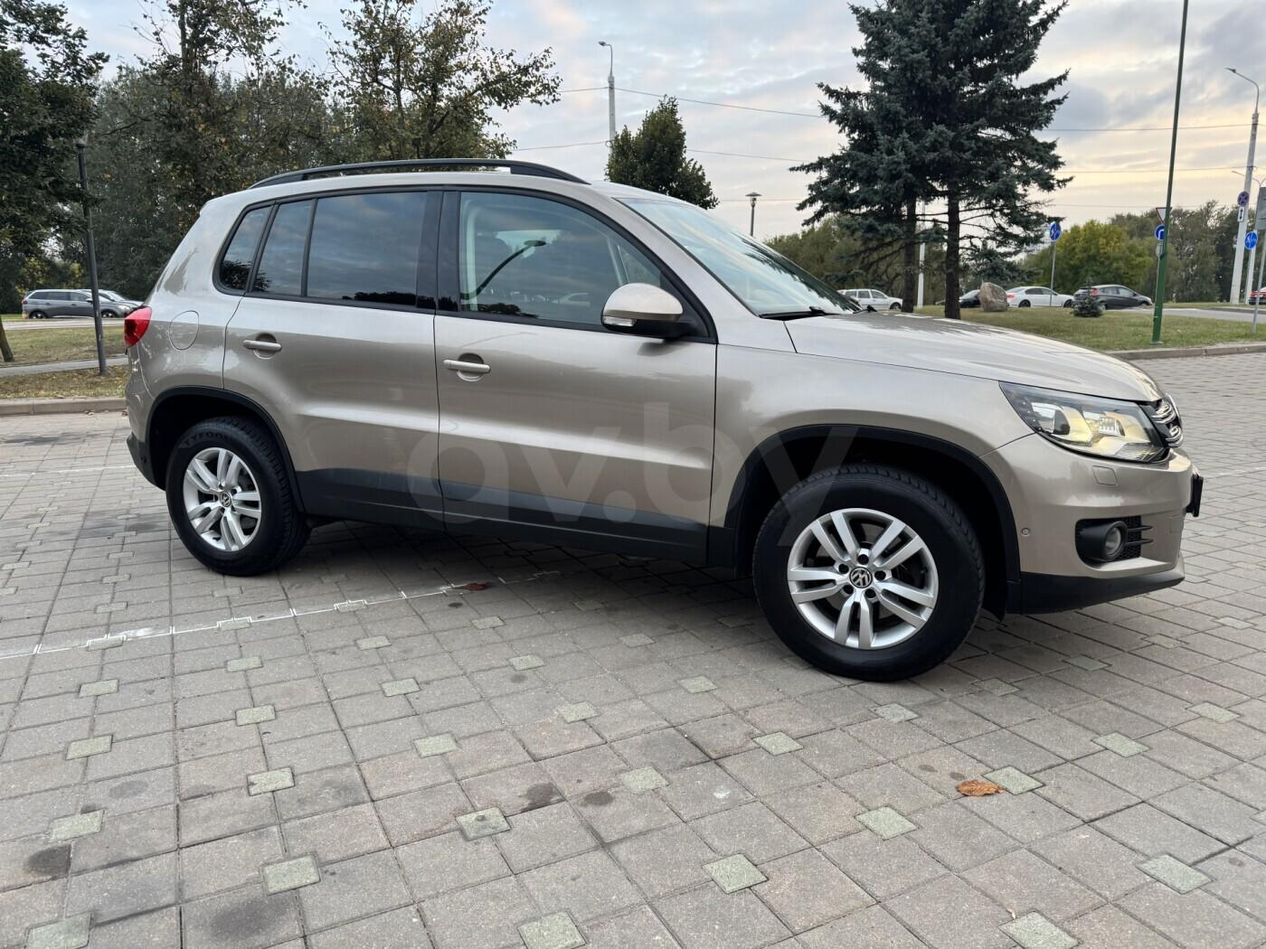Tiguan_2011-2018: (111, 160, 1201, 684)
